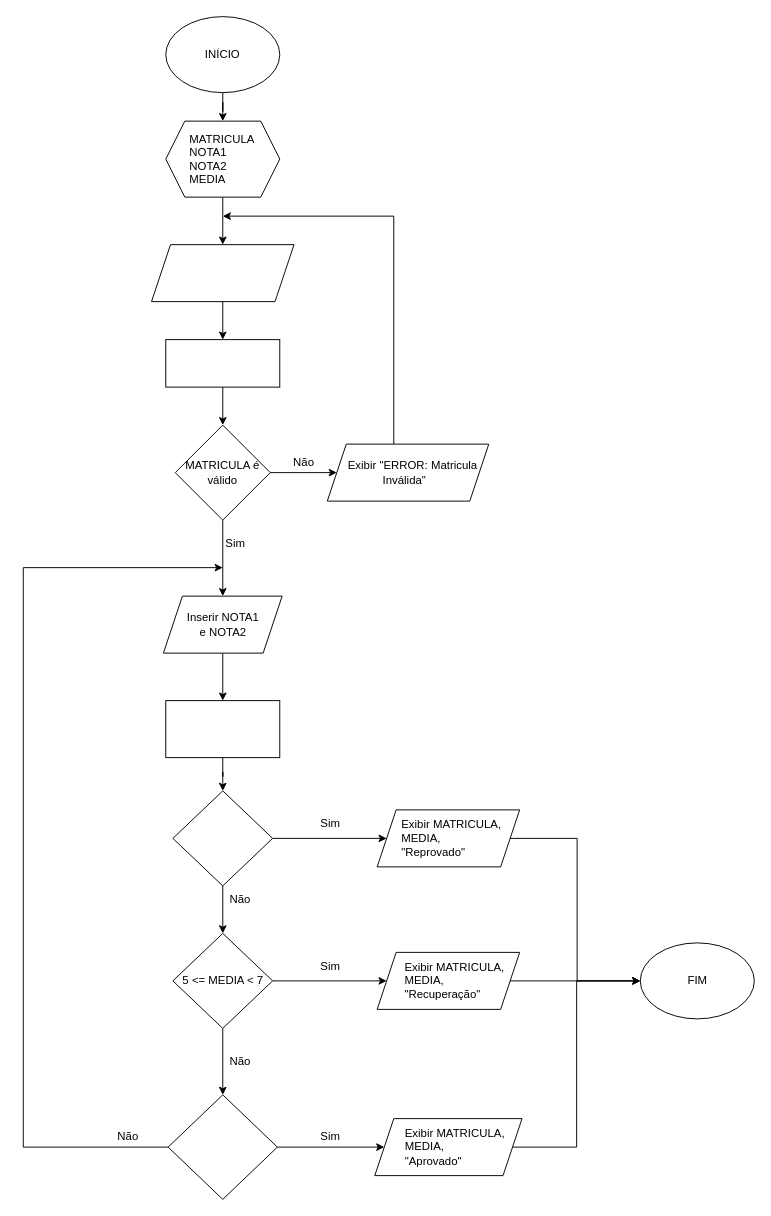
This 771x1216 diagram has some shape labels left out. The centre of each missing label's shape, as x and y in pixels:
"5 > MEDIA >= 0" belongs at [222,838].
"7 <=MEDIA <= 10" belongs at [222,1146].
"Inserir MATRICULA" belongs at [222,273].
"MEDIA = (NOTA1 + NOTA2) / 2" belongs at [222,729].
"Verificar MATRICULA" belongs at [222,363].
